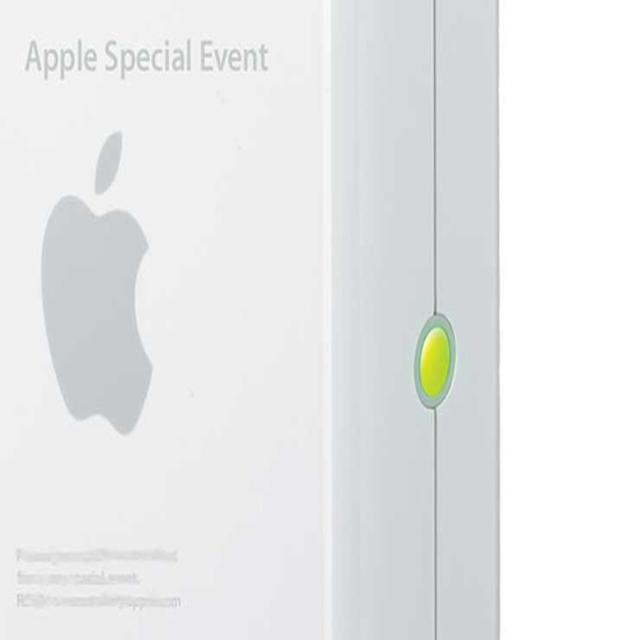Healty Apple: (44, 160, 154, 431)
